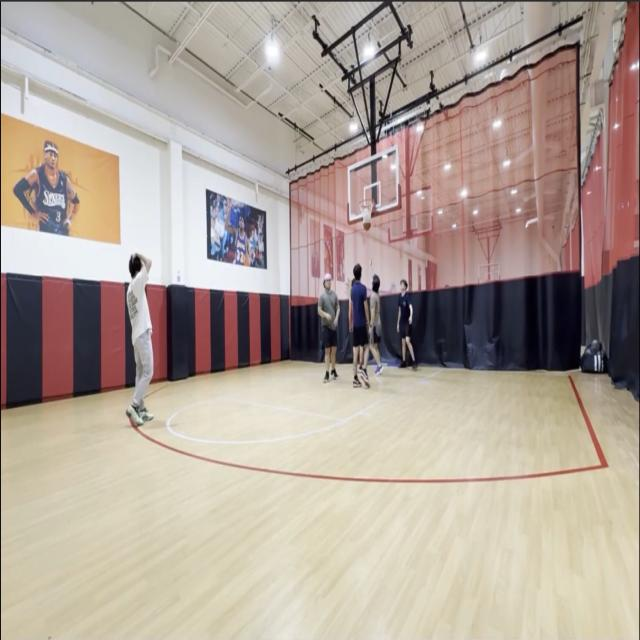Basketball: (363, 222, 371, 230)
Basketball Rim: (359, 198, 374, 223)
